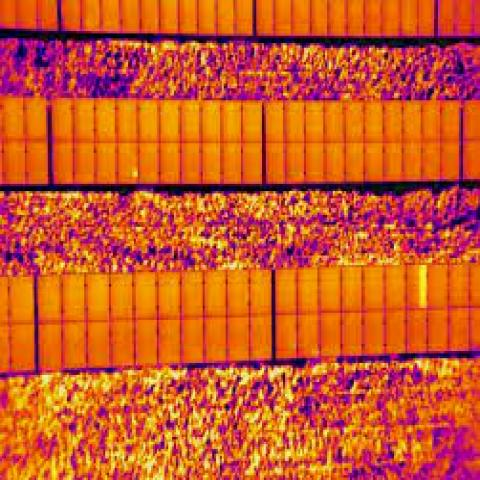fault: (419, 265, 428, 308), (130, 170, 140, 179)
